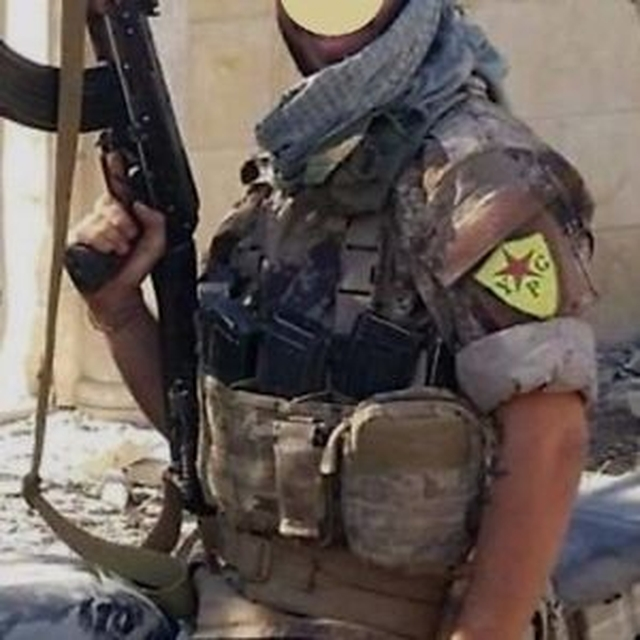AK47: (11, 1, 204, 290)
YPG: (475, 227, 555, 310)
